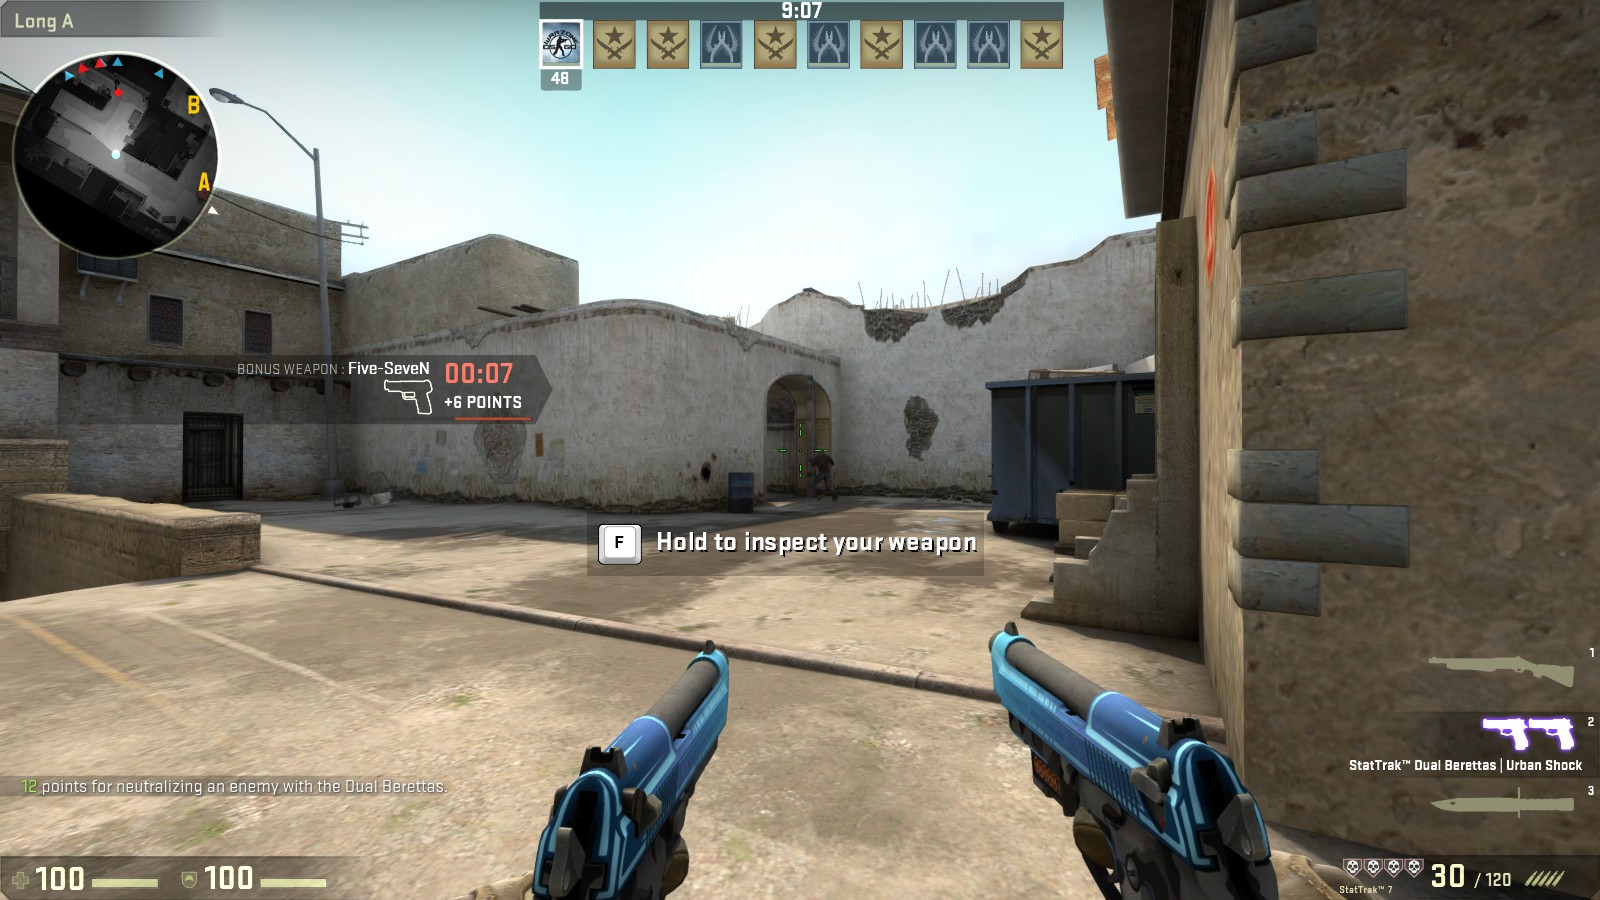t: (811, 449, 834, 502)
th: (816, 446, 827, 460)
